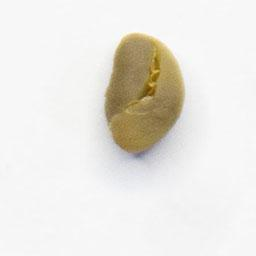peaberry: (97, 30, 189, 157)
